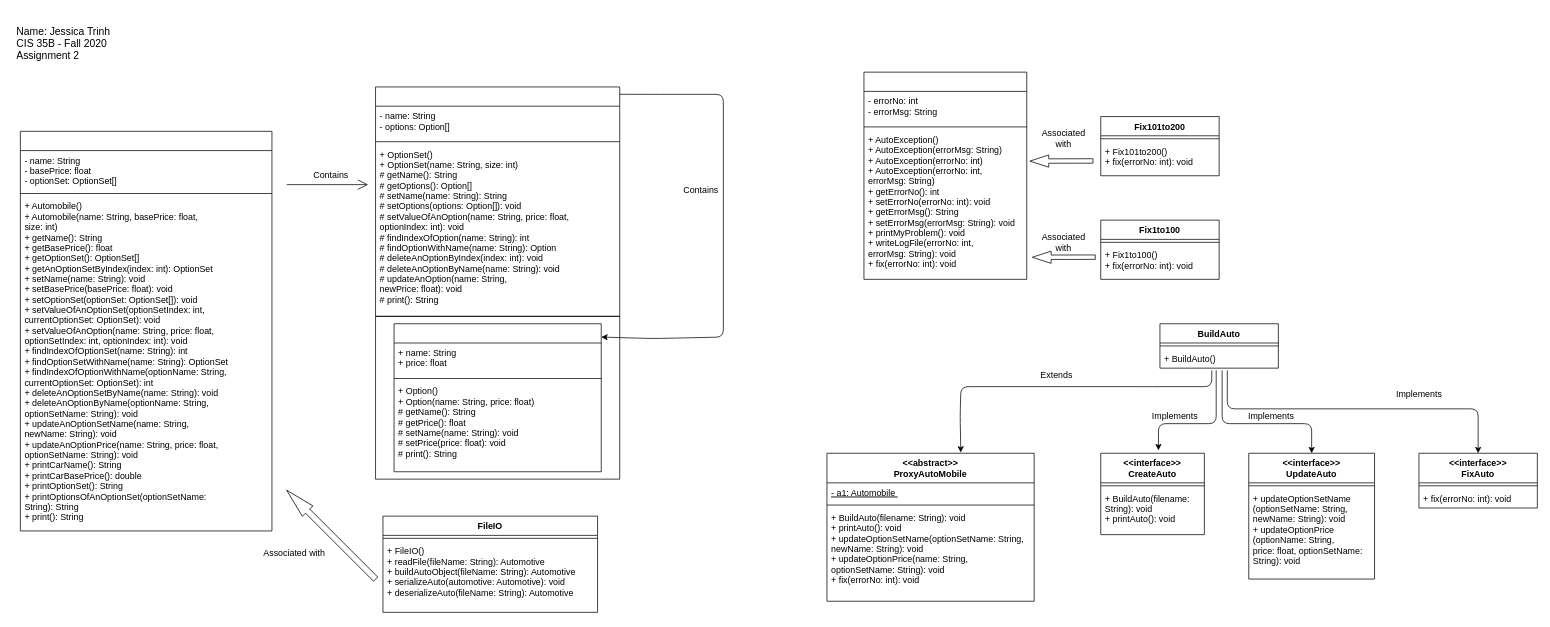
Some shapes in this 1550 by 627 pixel diagram are drawn without their labels. The shapes that lost their labels are listed below. From the top down, each one's box as (x1, y1, x2, y2) in pixels, then its label:
(863, 71, 1027, 279): AutoException extends Exception
(375, 86, 620, 316): OptionSet implements Serializable
(20, 131, 272, 531): Automobile implements Serializable
(393, 323, 601, 472): Option implements Serializable
